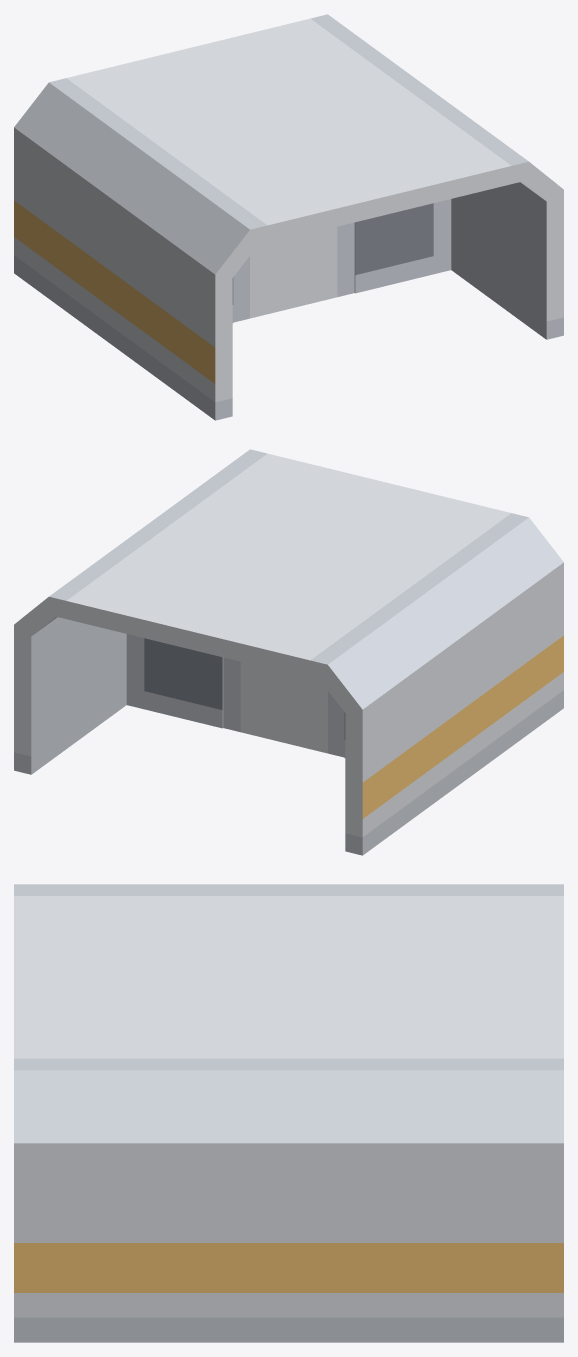
File: hangar_smallA.glb
The picture shows the model from 3 angles, top to bottom: view 1: azimuth 30°, elevation 25°; view 2: azimuth 150°, elevation 25°; view 3: azimuth 270°, elevation 25°; orthographic projection. The views are drawn at different scales.
Visible parts, largest first — view 1: hangar_smallA, hangar_smallA.002, hangar_smallA.003; view 2: hangar_smallA, hangar_smallA.003, hangar_smallA.002; view 3: hangar_smallA.
Part boxes in pixels (<box>): hangar_smallA: <box>14,14,563,420</box>; hangar_smallA.002: <box>233,222,354,322</box>; hangar_smallA.003: <box>232,199,451,322</box>; hangar_smallA: <box>14,449,563,855</box>; hangar_smallA.003: <box>223,657,344,757</box>; hangar_smallA.002: <box>126,634,345,757</box>; hangar_smallA: <box>14,884,563,1342</box>.
Bounding box in the file's own units: 6 × 3 × 6.
